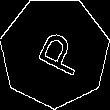P_NW: (25, 24, 85, 80)
